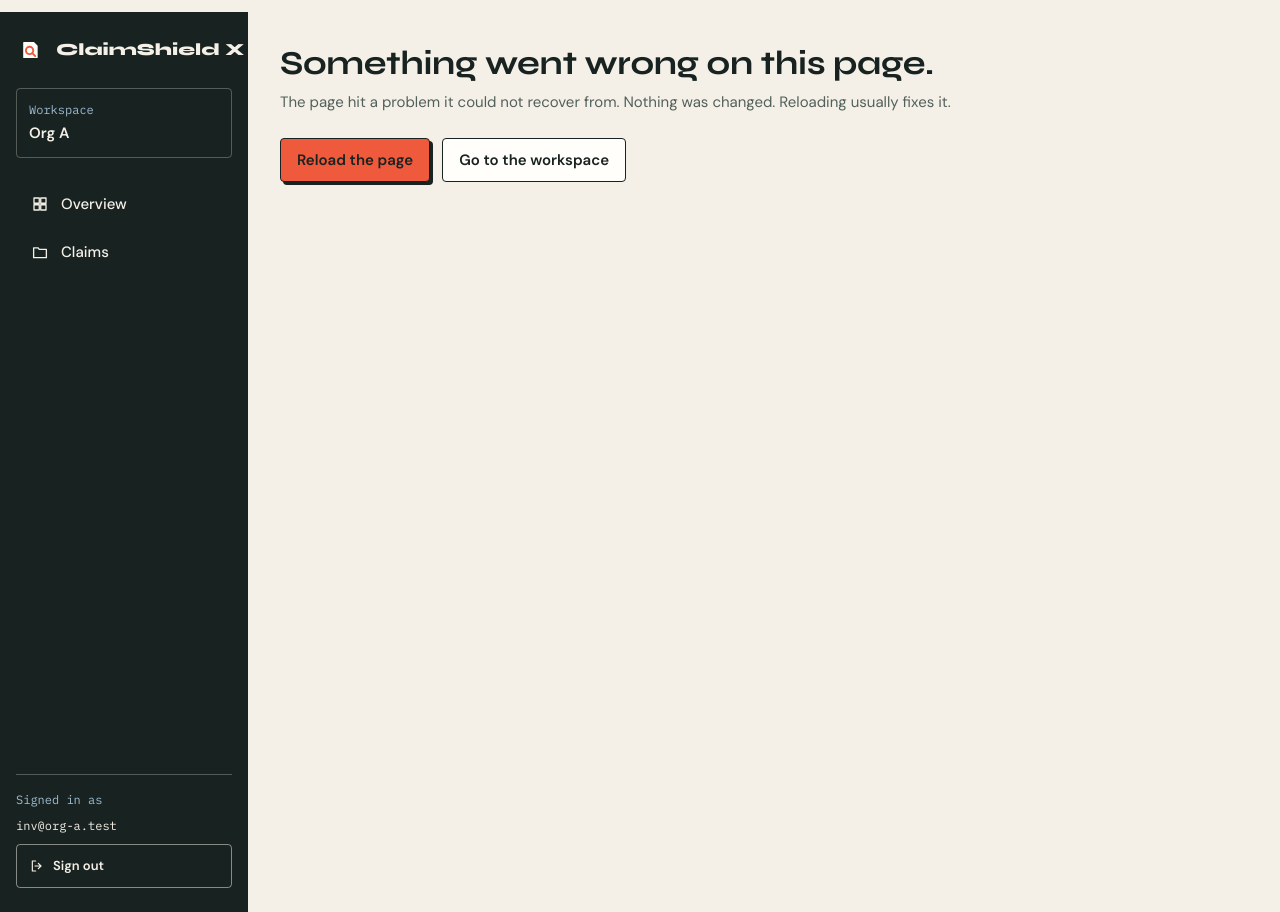
Test: RouteError inside the shell › recovers by navigating away
Expected: the message is shown, left=280, top=43, right=951, bottom=182
Click the link "Claims": point(70, 252) left=31, top=242, right=109, bottom=262
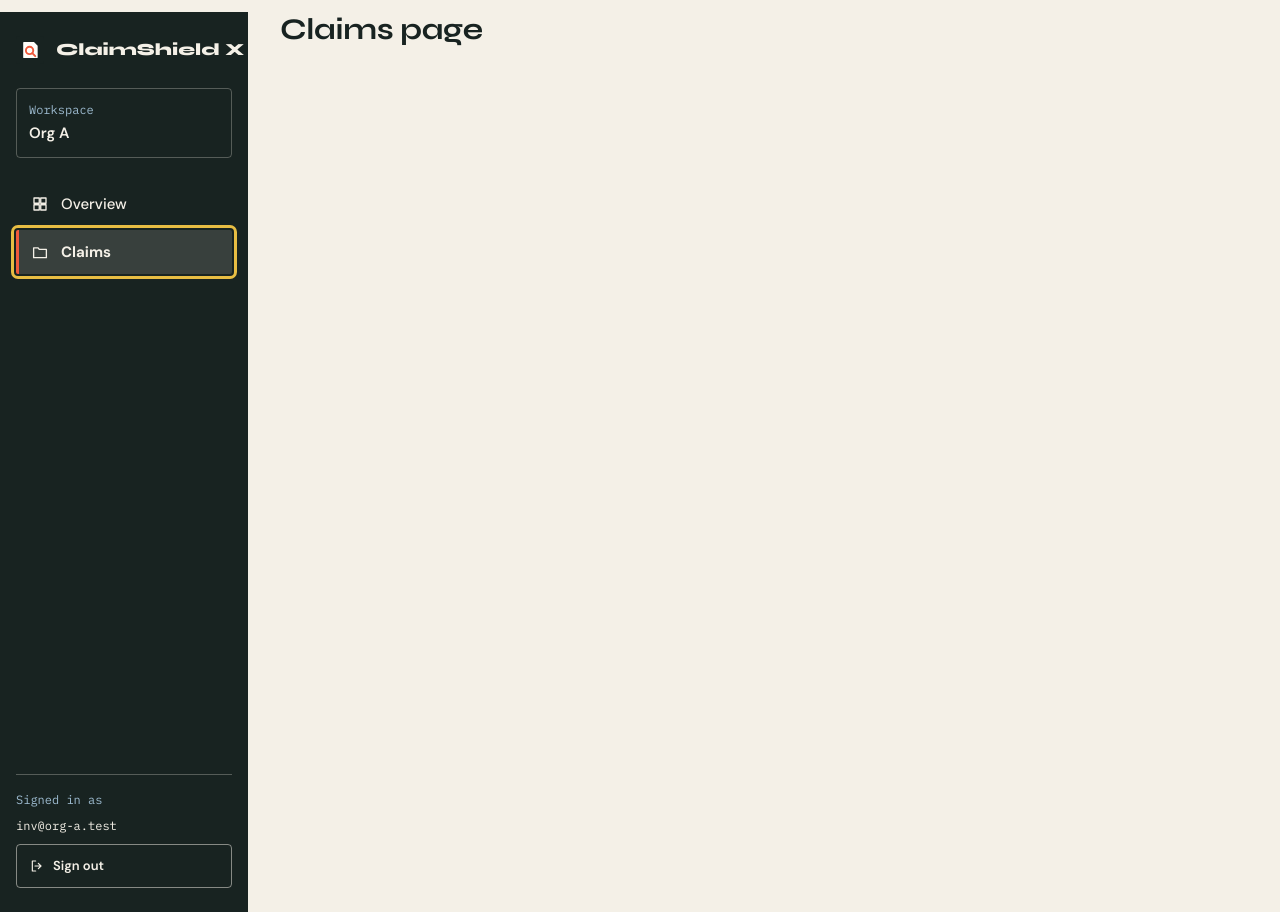
Result: the heading "Claims page" is shown at left=280, top=11, right=483, bottom=47
